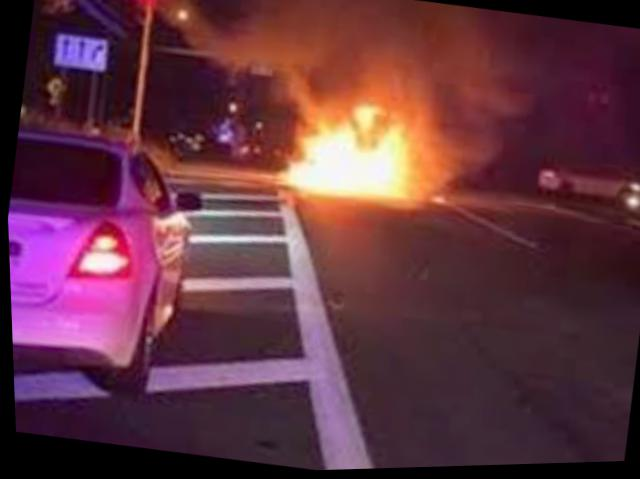fire: (262, 76, 463, 229)
